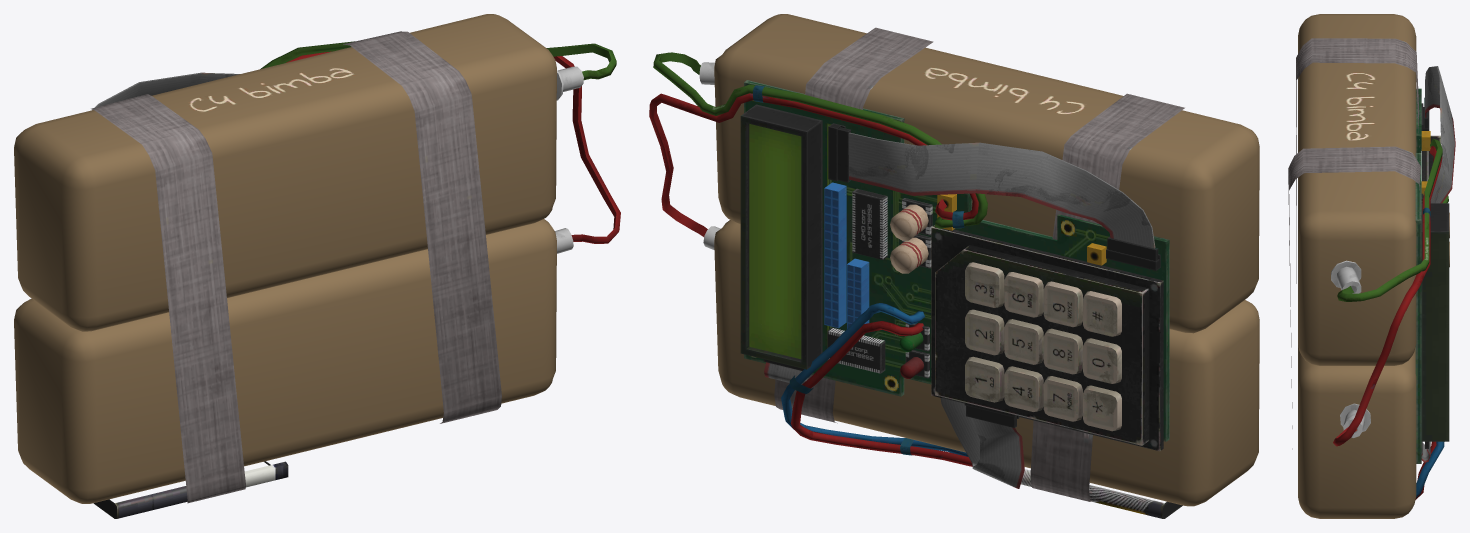
Rendered from C4_Dropped.glb.
The picture shows the model from 3 angles, left to right: view 1: azimuth 30°, elevation 25°; view 2: azimuth 150°, elevation 25°; view 3: azimuth 270°, elevation 25°; orthographic projection. The views are drawn at different scales.
Visible parts, largest first — view 1: C4; view 2: C4; view 3: C4.
Part boxes in pixels (bbox=[...]): C4: bbox=[14, 14, 620, 518]; C4: bbox=[649, 14, 1259, 518]; C4: bbox=[1288, 14, 1455, 518].
Bounding box in the file's own units: 0.3571 × 0.2266 × 0.1014.
Materials: 1 (1 with a texture image).
